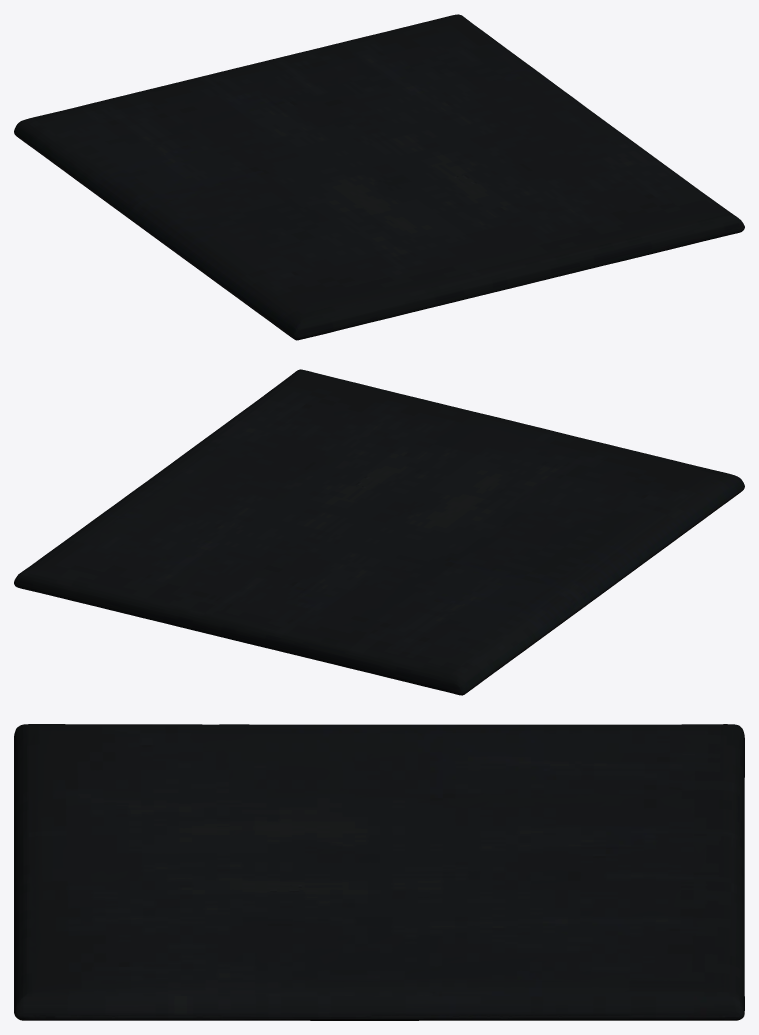
File: a506c825-0544-4cdf-9f5d-d078c09f0742.glb
The picture shows the model from 3 angles, top to bottom: view 1: azimuth 30°, elevation 25°; view 2: azimuth 150°, elevation 25°; view 3: azimuth 270°, elevation 25°; orthographic projection. The views are drawn at different scales.
Parts seen in each view (by area): view 1: world; view 2: world; view 3: world.
Part boxes in pixels (bbox=[...]): world: bbox=[14, 14, 744, 340]; world: bbox=[14, 369, 744, 695]; world: bbox=[14, 724, 744, 1020].
Bounding box in the file's own units: 0.919 × 0.0393 × 1.
1 material, 1 textured.
